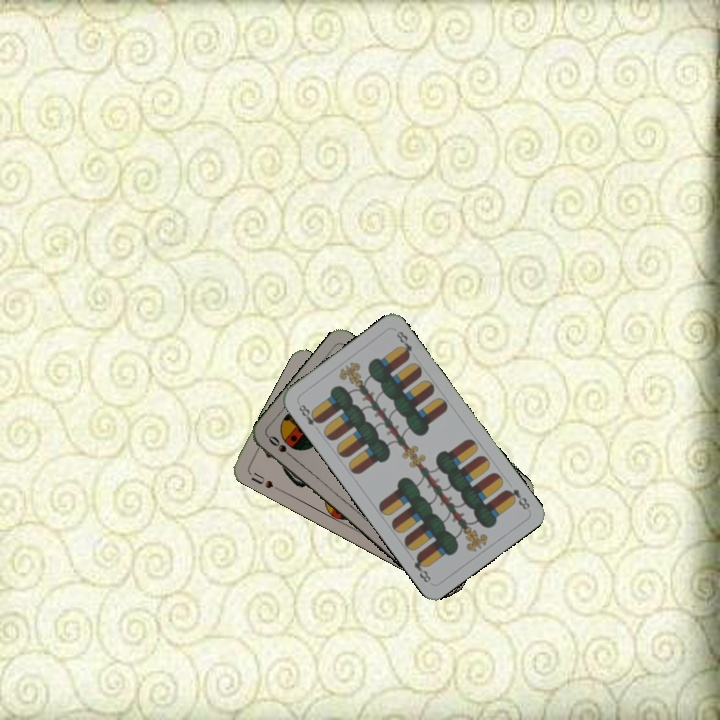E8: (501, 484, 533, 512), (294, 400, 324, 428)
SO: (264, 431, 298, 462)
SU: (245, 468, 282, 493)
